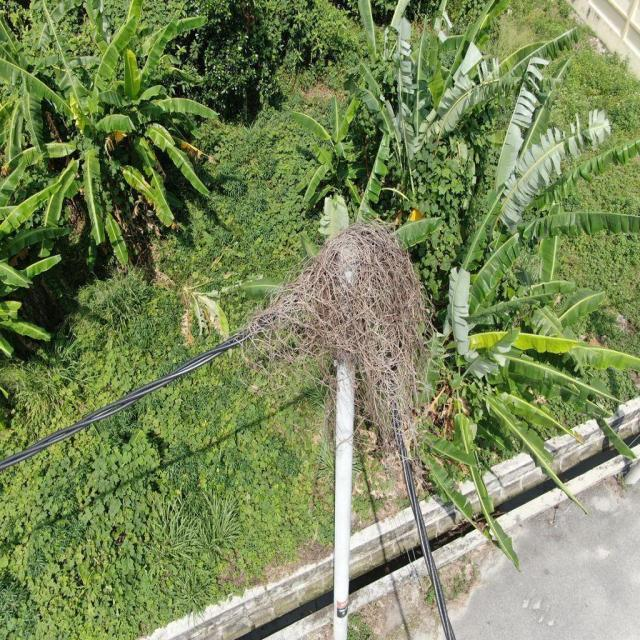critical vegetation: (224, 197, 451, 508)
